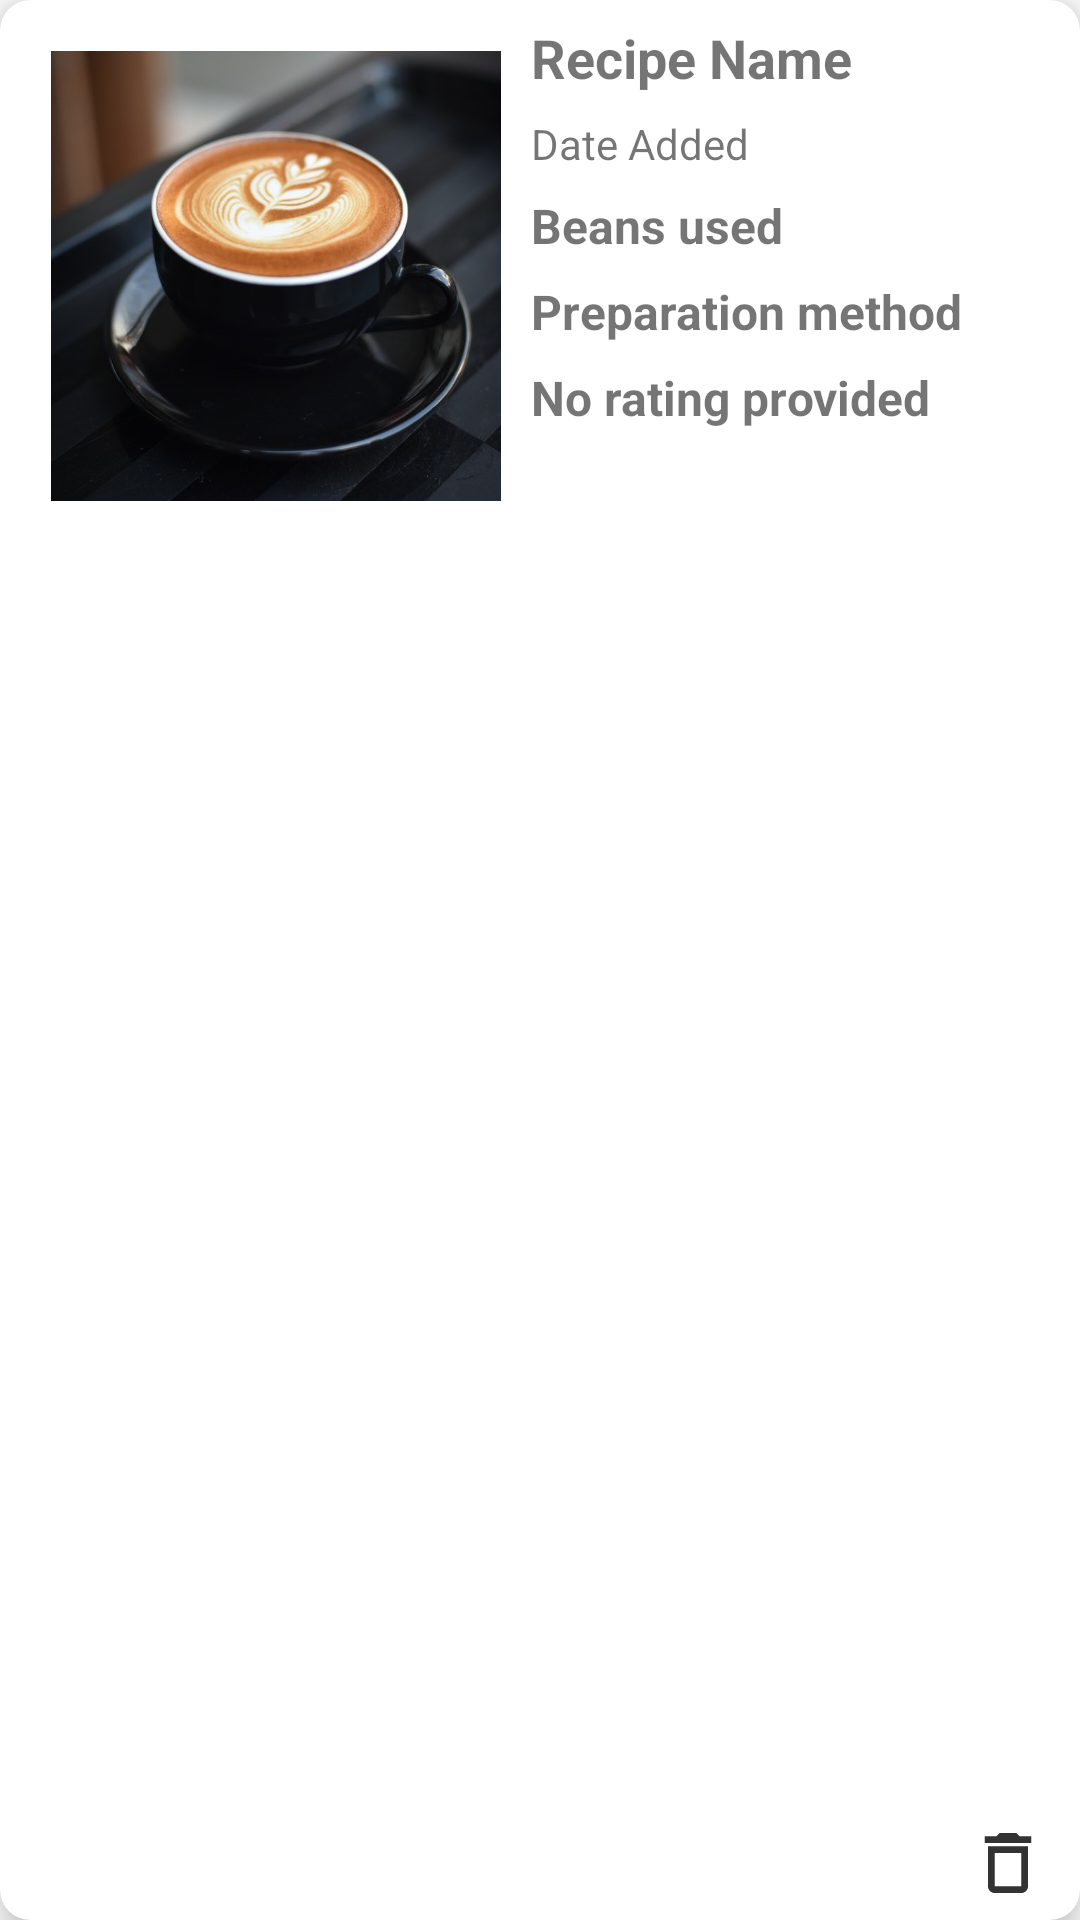

Screen size 1080×1920. Icon name, then its center in pixels as [x,y]:
delete: [1008,1863]
